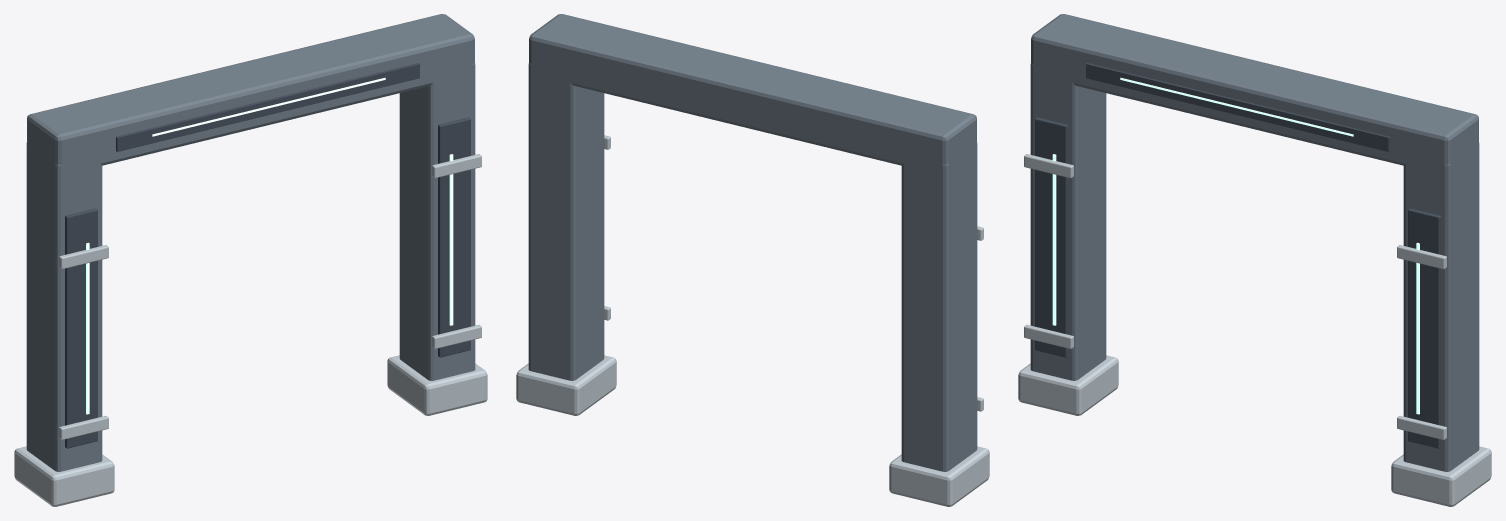
Rendered from golden_gate.glb.
The picture shows the model from 3 angles, left to right: view 1: azimuth 30°, elevation 25°; view 2: azimuth 150°, elevation 25°; view 3: azimuth 330°, elevation 25°; orthographic projection.
Parts seen in each view (by area): view 1: GS_Gate_Header_DarkMetal, GS_Gate_Pillar-1_DarkMetal, GS_Gate_Pillar1_DarkMetal, GS_Gate_Inset1_PanelPlastic, GS_Gate_Inset-1_PanelPlastic, GS_Gate_HeaderInset_PanelPlastic, GS_Gate_Foot1_SecondaryMetal, GS_Gate_Foot-1_SecondaryMetal, GS_Gate_Light1_EnergyGreen, GS_Gate_Brace13_SecondaryMetal, GS_Gate_Brace-13_SecondaryMetal, GS_Gate_Brace110_SecondaryMetal (+3 smaller); view 2: GS_Gate_Header_DarkMetal, GS_Gate_Pillar-1_DarkMetal, GS_Gate_Pillar1_DarkMetal, GS_Gate_Foot1_SecondaryMetal, GS_Gate_Foot-1_SecondaryMetal; view 3: GS_Gate_Header_DarkMetal, GS_Gate_Pillar1_DarkMetal, GS_Gate_Pillar-1_DarkMetal, GS_Gate_Inset-1_PanelPlastic, GS_Gate_Inset1_PanelPlastic, GS_Gate_HeaderInset_PanelPlastic, GS_Gate_Foot1_SecondaryMetal, GS_Gate_Foot-1_SecondaryMetal, GS_Gate_Light-1_EnergyGreen, GS_Gate_Brace13_SecondaryMetal, GS_Gate_Brace-13_SecondaryMetal, GS_Gate_Brace110_SecondaryMetal (+3 smaller).
Part boxes in pixels (bbox=[...]): GS_Gate_Header_DarkMetal: bbox=[27, 14, 474, 172]; GS_Gate_Pillar-1_DarkMetal: bbox=[26, 143, 102, 471]; GS_Gate_Pillar1_DarkMetal: bbox=[399, 63, 475, 380]; GS_Gate_Inset1_PanelPlastic: bbox=[438, 117, 470, 357]; GS_Gate_Inset-1_PanelPlastic: bbox=[65, 208, 97, 448]; GS_Gate_HeaderInset_PanelPlastic: bbox=[116, 63, 419, 151]; GS_Gate_Foot1_SecondaryMetal: bbox=[387, 355, 487, 415]; GS_Gate_Foot-1_SecondaryMetal: bbox=[14, 446, 114, 506]; GS_Gate_Light1_EnergyGreen: bbox=[449, 154, 453, 325]; GS_Gate_Brace13_SecondaryMetal: bbox=[432, 324, 481, 348]; GS_Gate_Brace-13_SecondaryMetal: bbox=[59, 415, 108, 439]; GS_Gate_Brace110_SecondaryMetal: bbox=[432, 154, 481, 178]; GS_Gate_Header_DarkMetal: bbox=[529, 14, 976, 172]; GS_Gate_Pillar-1_DarkMetal: bbox=[901, 143, 977, 471]; GS_Gate_Pillar1_DarkMetal: bbox=[528, 63, 604, 380]; GS_Gate_Foot1_SecondaryMetal: bbox=[516, 355, 616, 415]; GS_Gate_Foot-1_SecondaryMetal: bbox=[889, 446, 989, 506]; GS_Gate_Header_DarkMetal: bbox=[1031, 14, 1478, 172]; GS_Gate_Pillar1_DarkMetal: bbox=[1403, 143, 1479, 471]; GS_Gate_Pillar-1_DarkMetal: bbox=[1030, 63, 1106, 380]; GS_Gate_Inset-1_PanelPlastic: bbox=[1035, 117, 1067, 357]; GS_Gate_Inset1_PanelPlastic: bbox=[1408, 208, 1440, 448]; GS_Gate_HeaderInset_PanelPlastic: bbox=[1086, 63, 1389, 151]; GS_Gate_Foot1_SecondaryMetal: bbox=[1391, 446, 1491, 506]; GS_Gate_Foot-1_SecondaryMetal: bbox=[1018, 355, 1118, 415]; GS_Gate_Light-1_EnergyGreen: bbox=[1052, 154, 1056, 325]; GS_Gate_Brace13_SecondaryMetal: bbox=[1397, 415, 1446, 439]; GS_Gate_Brace-13_SecondaryMetal: bbox=[1024, 324, 1073, 348]; GS_Gate_Brace110_SecondaryMetal: bbox=[1397, 245, 1446, 269].
Size of the model in its own units: 18.7 by 15.05 by 3.07.
